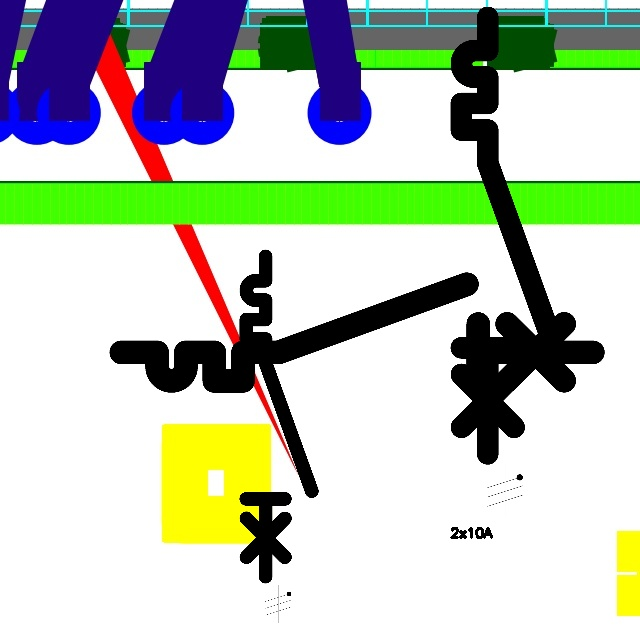interruptor_termomagnetico: (109, 272, 605, 393), (450, 6, 562, 465), (238, 248, 320, 585)
